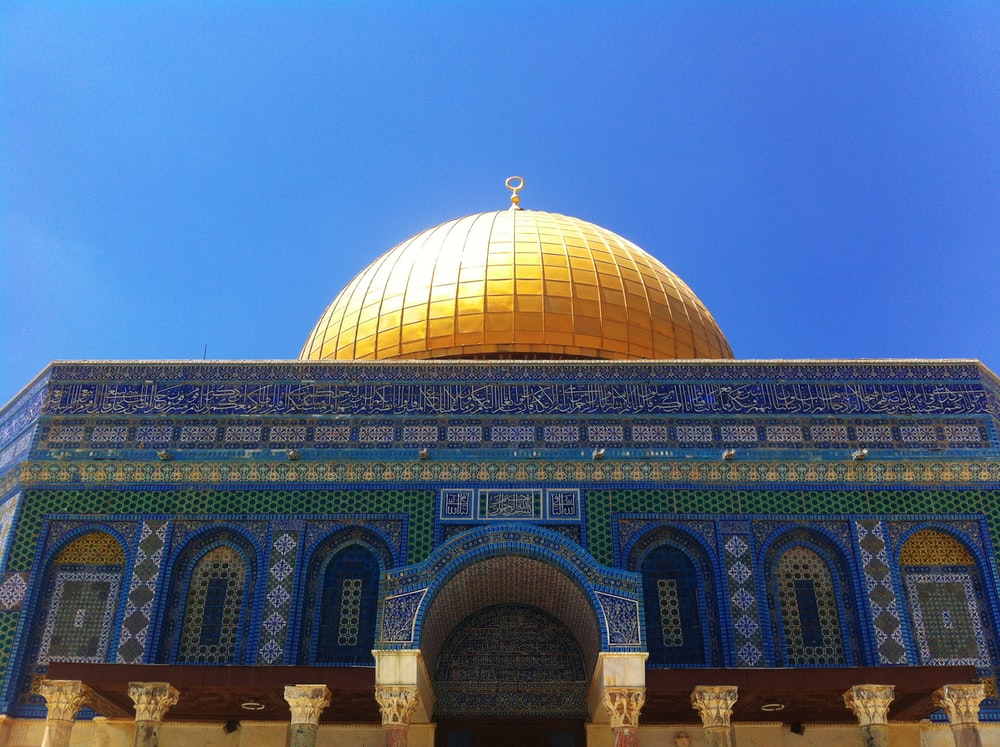Mosque: (18, 160, 987, 708)
